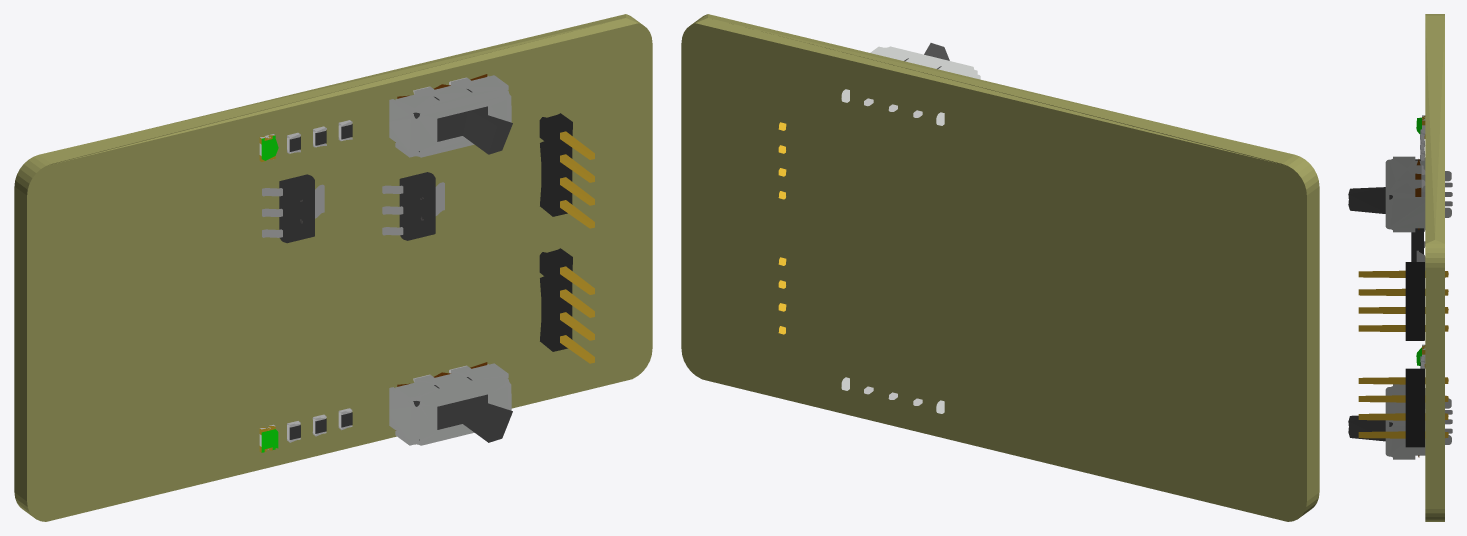
Rendered from OBJ_PCB_2021-02-12_18-40-25.obj.
The picture shows the model from 3 angles, left to right: view 1: azimuth 30°, elevation 25°; view 2: azimuth 150°, elevation 25°; view 3: azimuth 270°, elevation 25°; orthographic projection. The views are drawn at different scales.
Size of the model in its own units: 286 by 156 by 52.36.
